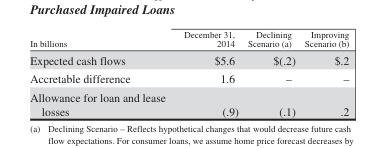table: (29, 29, 348, 117)
table column: (29, 29, 174, 117), (174, 29, 242, 117), (242, 29, 299, 117), (299, 29, 348, 117)
table column header: (29, 29, 348, 51)
table row: (29, 87, 348, 117), (29, 29, 348, 51), (29, 51, 348, 69), (29, 69, 348, 87)
